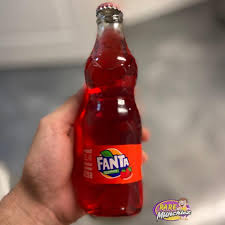glass_bottle: (72, 1, 148, 221)
